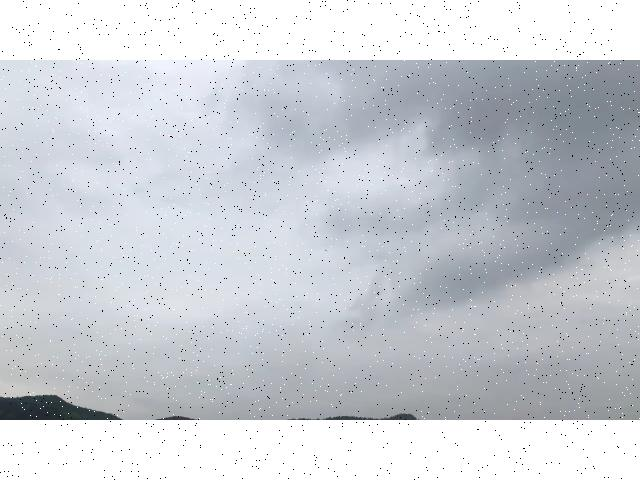Anti-Drone: (319, 243, 337, 255)
